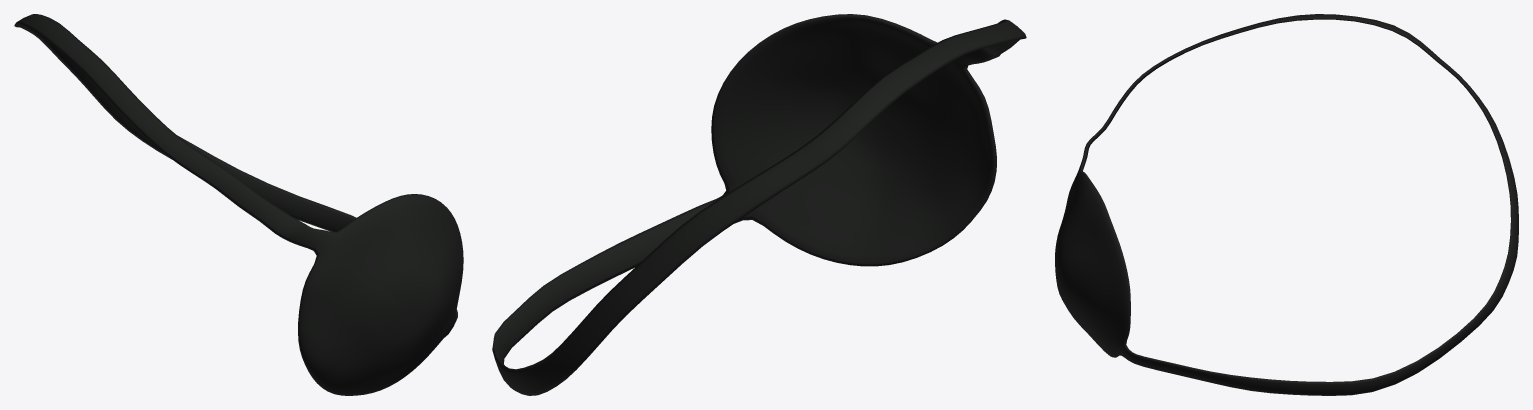
Rendered from Pirate_Tape.fbx.
The picture shows the model from 3 angles, left to right: view 1: azimuth 30°, elevation 25°; view 2: azimuth 150°, elevation 25°; view 3: azimuth 270°, elevation 25°; orthographic projection. The views are drawn at different scales.
Visible parts, largest first — view 1: Korsan Bandı; view 2: Korsan Bandı; view 3: Korsan Bandı.
Boxes of the visible parts, x1,y1,x2,y2 form: Korsan Bandı: [14, 14, 463, 395]; Korsan Bandı: [492, 14, 1026, 395]; Korsan Bandı: [1055, 14, 1518, 395].
Bounding box in the file's own units: 68.9 × 59.55 × 97.22.
